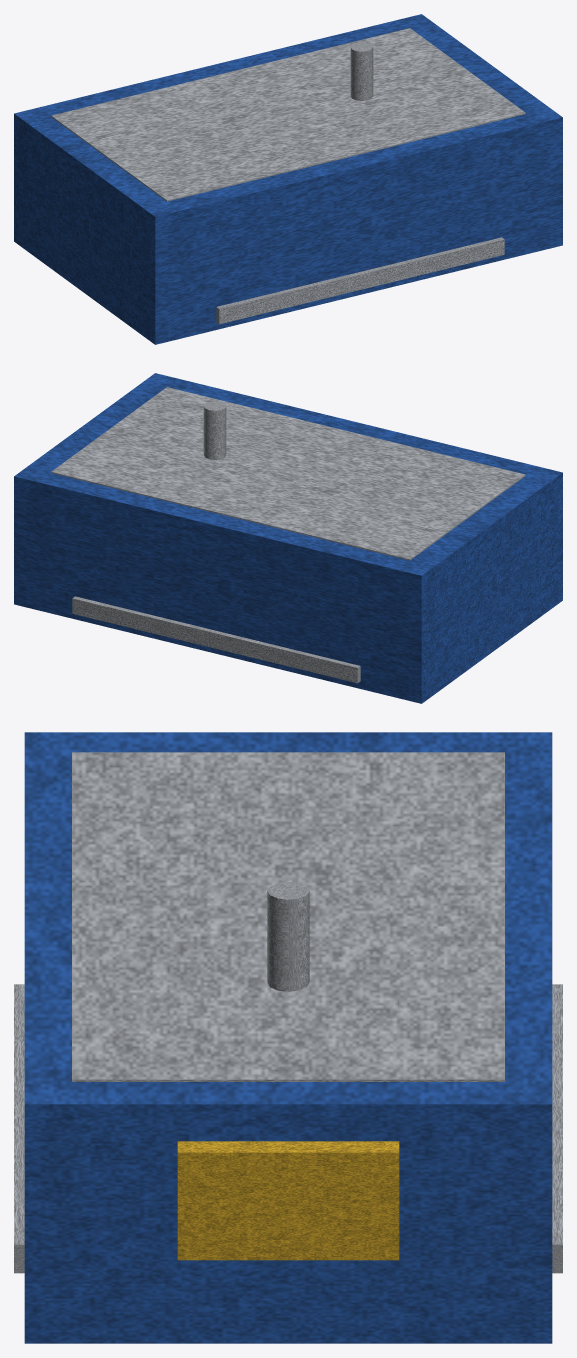
The model's file is chassis_medium.obj.
3 views of the same model, one above another, from view 1: azimuth 30°, elevation 25°; view 2: azimuth 150°, elevation 25°; view 3: azimuth 270°, elevation 25° (orthographic). The views are drawn at different scales.
Size of the model in its own units: 0.515 by 0.2093 by 0.312.
4 materials, 4 textured.
